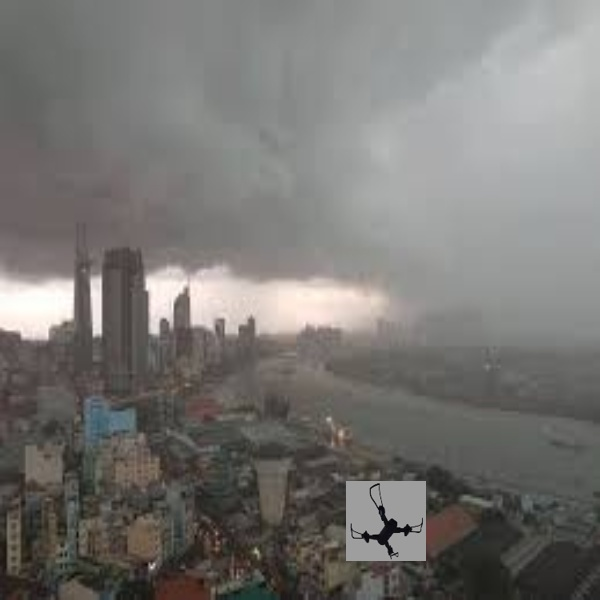drone: (347, 477, 428, 560)
